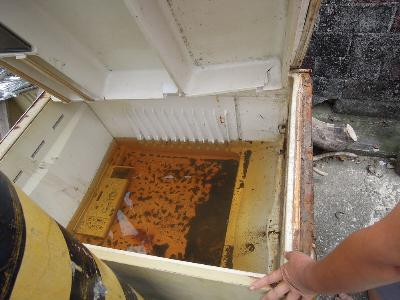box: (1, 68, 315, 299)
